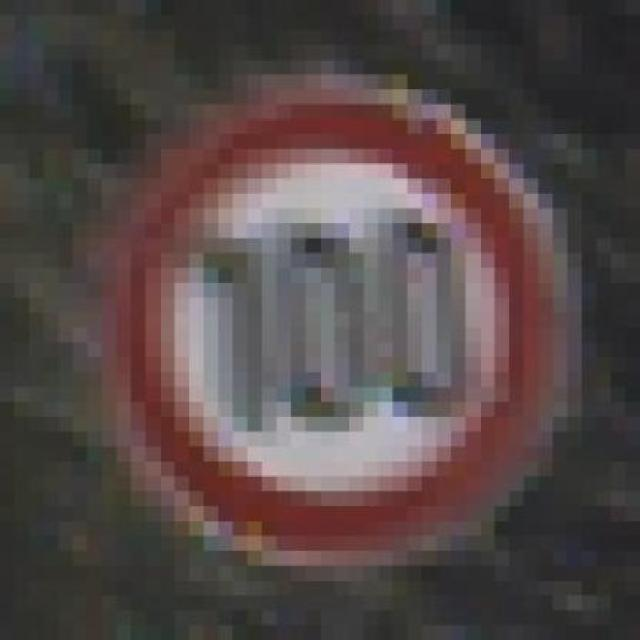forb_speed_over_100: (113, 87, 559, 571)
